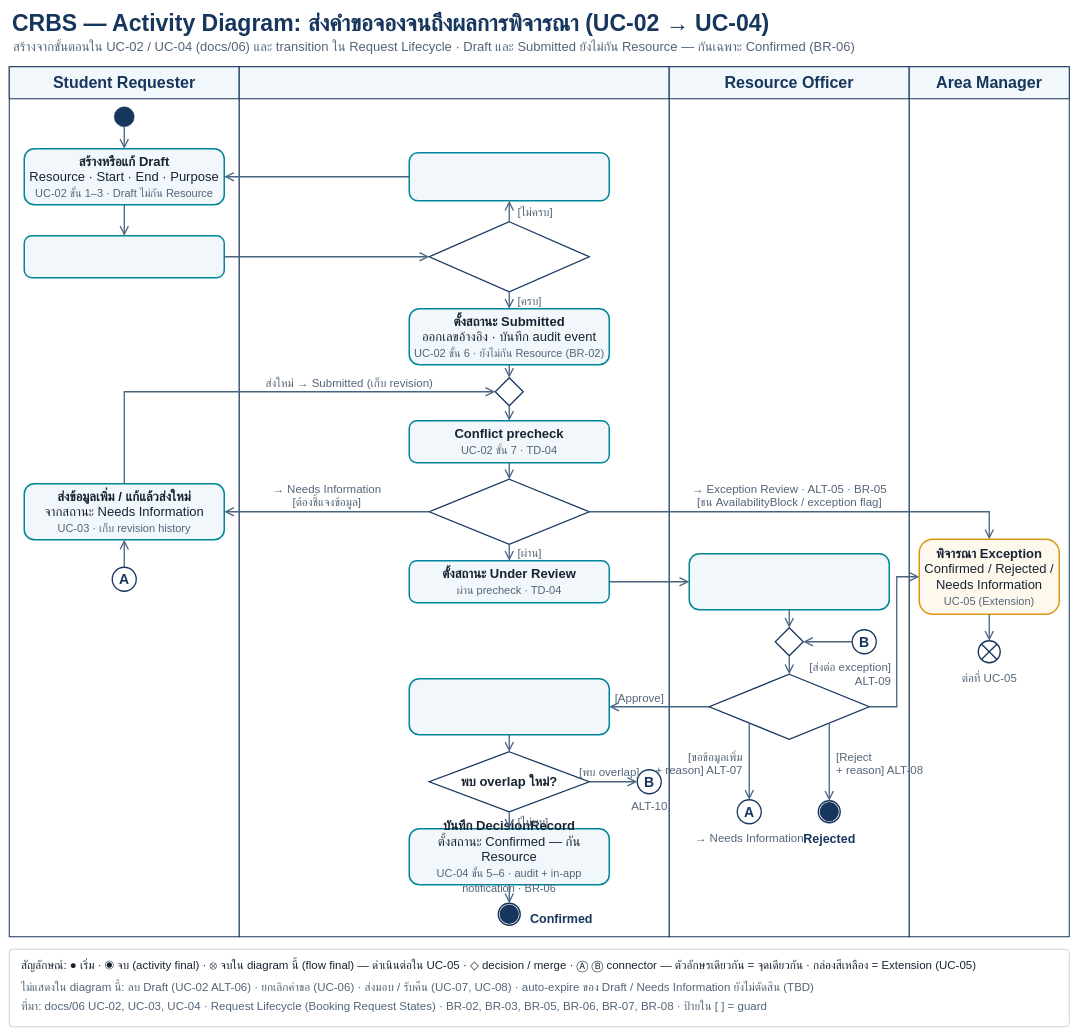
Image size: 1083x1036. Some labels were removed from this diagram. Here are the shapes that lost their labels. From the top down, the box of each, then its label:
(238, 66, 670, 99): CRBS (System)
(408, 152, 610, 201): คง Draft และระบุ field ที่ขาด UC-02 ALT-04
(23, 235, 225, 278): ขอส่งคำขอ (Submit) UC-02 ขั้น 4
(428, 221, 590, 292): ข้อมูลครบ และ Start ก่อน End? UC-02 ขั้น 5 · BR-03
(428, 478, 590, 545): ผล precheck
(688, 553, 890, 610): เปิดคำขอและตรวจ source · purpose · time · Resource UC-04 ขั้น 1–2
(408, 678, 610, 735): Recheck Confirmed overlap และ AvailabilityBlock UC-04 ขั้น 4 · BR-07 · NFR-04
(708, 673, 870, 740): ตัดสินคำขอ UC-04 ขั้น 3
